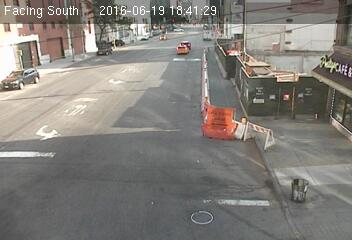neg: (282, 91, 304, 121), (61, 39, 80, 63), (271, 97, 289, 120), (8, 45, 24, 66), (81, 17, 97, 38), (223, 58, 237, 76), (174, 38, 187, 56), (131, 27, 139, 38)
